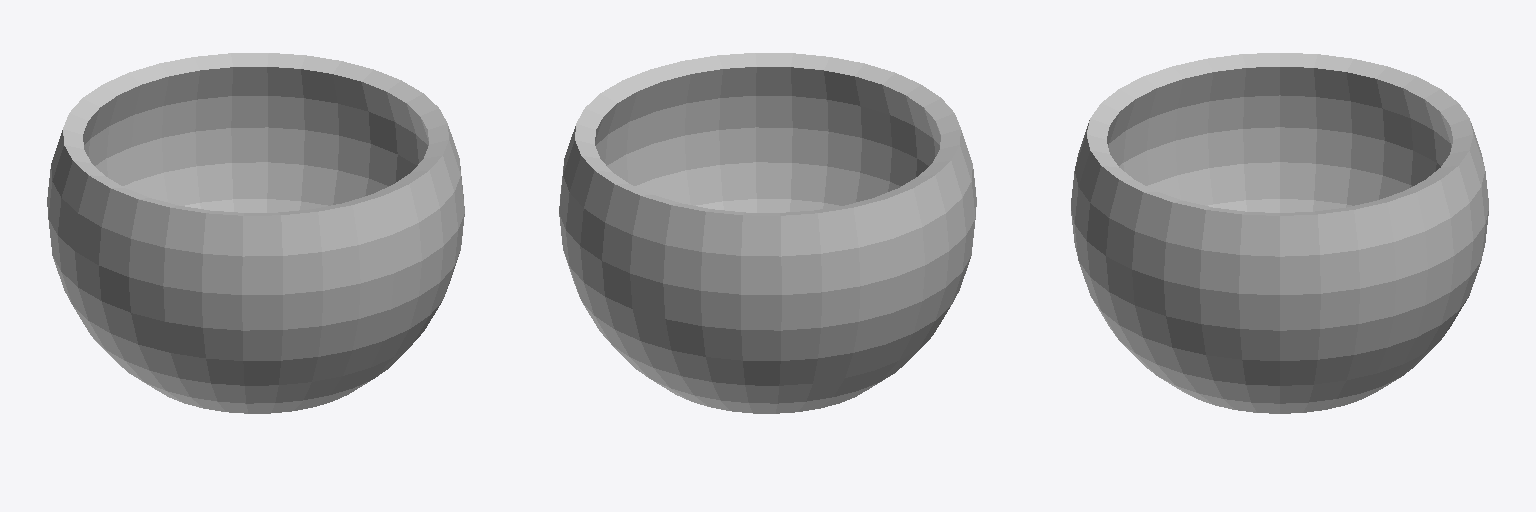
File: socket.obj
The picture shows the model from 3 angles: view 1: azimuth 30°, elevation 25°; view 2: azimuth 150°, elevation 25°; view 3: azimuth 270°, elevation 25°; orthographic projection.
Parts seen in each view (by area): view 1: Sphere; view 2: Sphere; view 3: Sphere.
Boxes of the visible parts, <box> form: Sphere: <box>47,53,464,413</box>; Sphere: <box>559,53,976,413</box>; Sphere: <box>1071,53,1488,413</box>.
Bounding box in the file's own units: 1 × 0.6411 × 1.